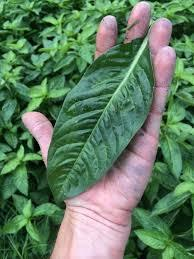healthy_leaf: (31, 16, 162, 230)
